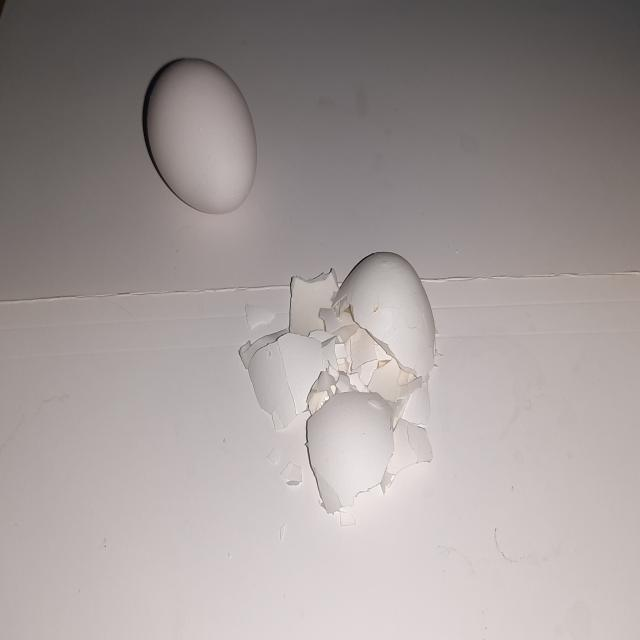egg shell: (144, 54, 260, 216), (335, 247, 440, 381), (308, 382, 392, 518), (238, 326, 338, 421), (285, 263, 348, 334), (388, 419, 437, 478)
